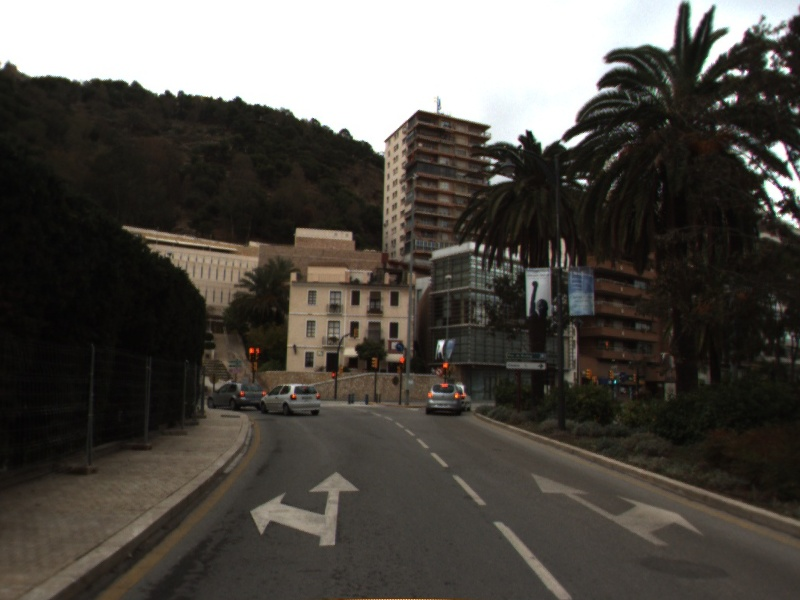STRAIGHT_LEFT: (248, 470, 362, 548)
STRAIGHT_RIGHT: (530, 471, 705, 547)
